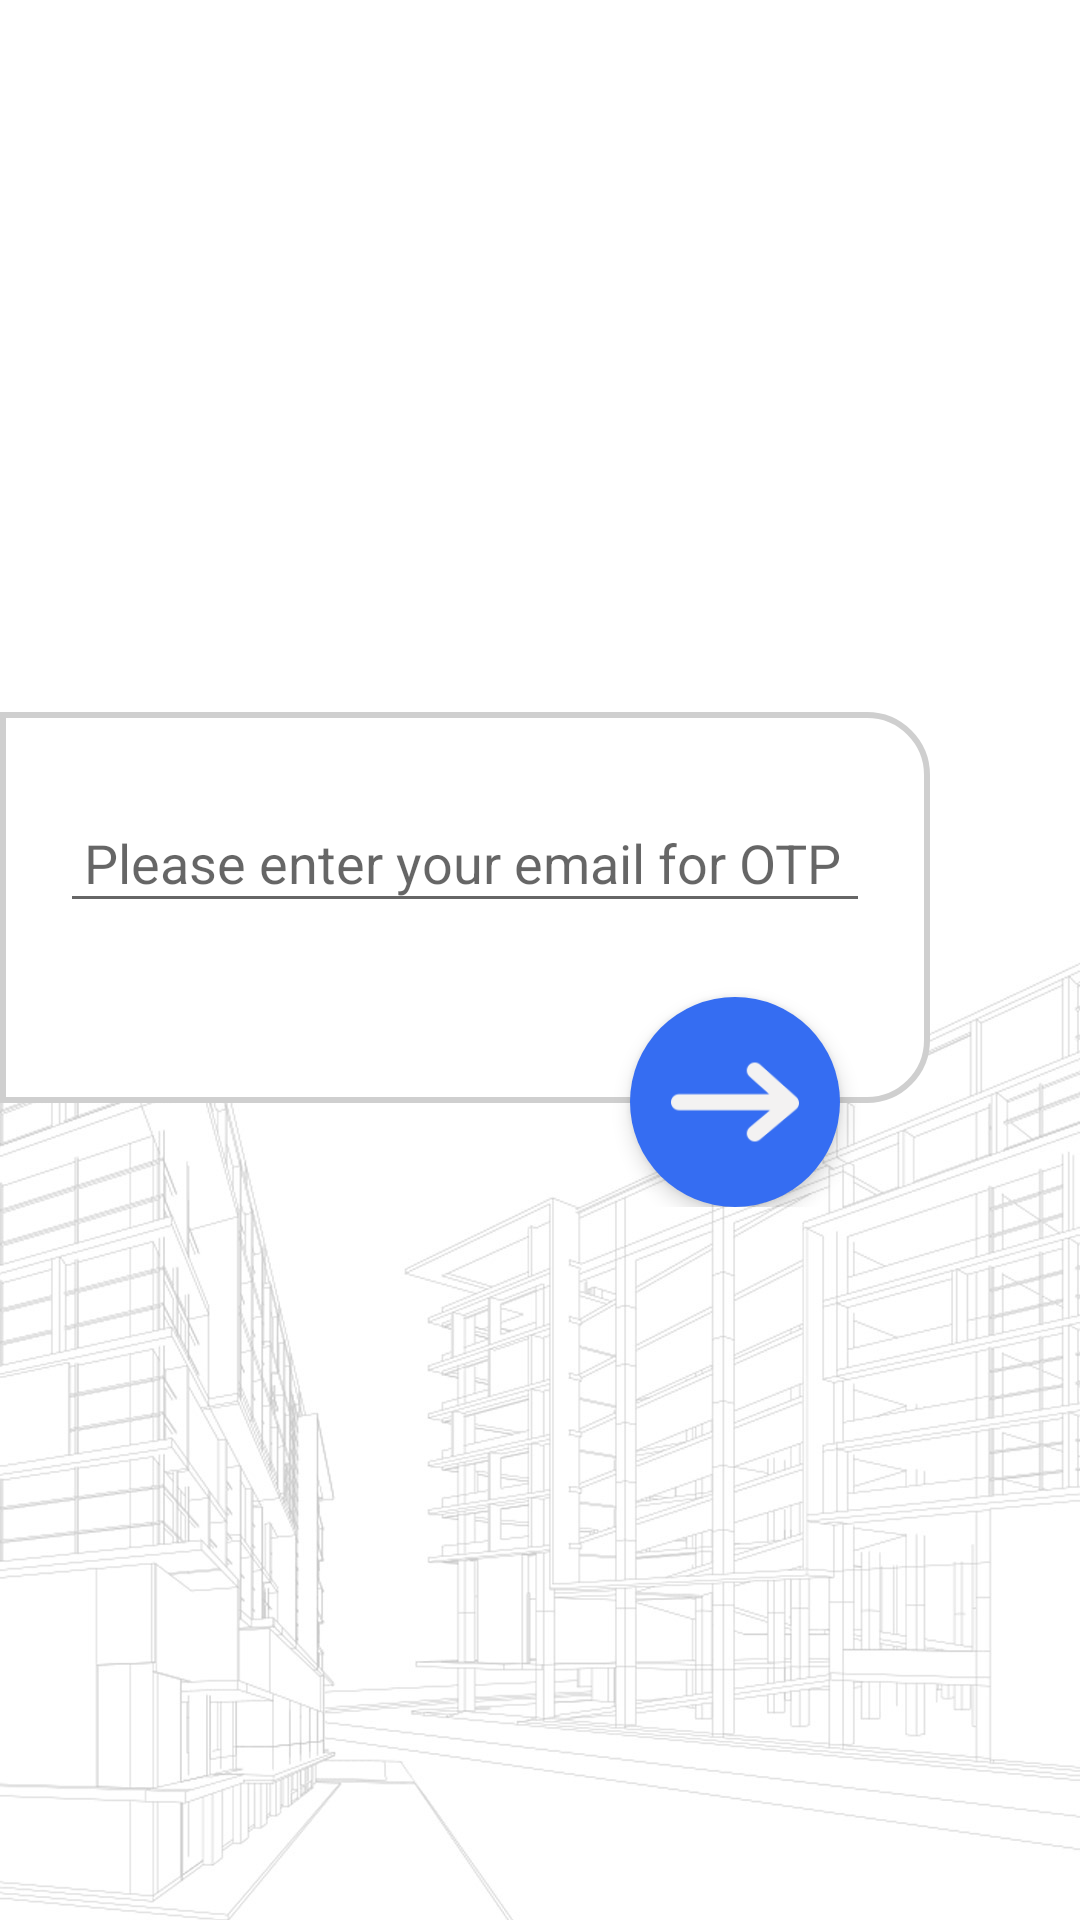

Named icons in this screenshot (1080*1920) and their centers, (x,y):
right arrow: (735,1102)
